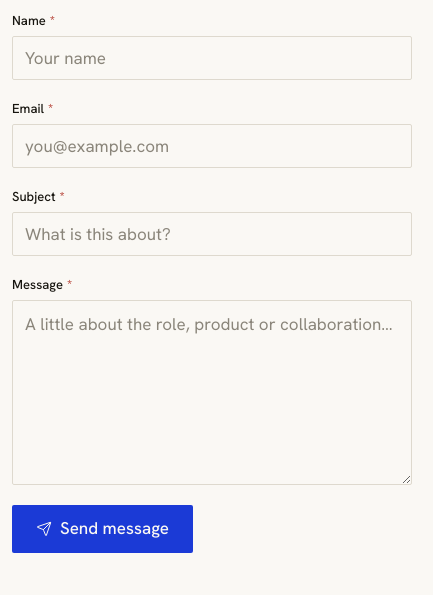
Test: ContactForm — validation (§06) › rejects a malformed email with the frozen format error
In the field labelled "Name*": (212, 58) [12,36,412,80], type "Ada"
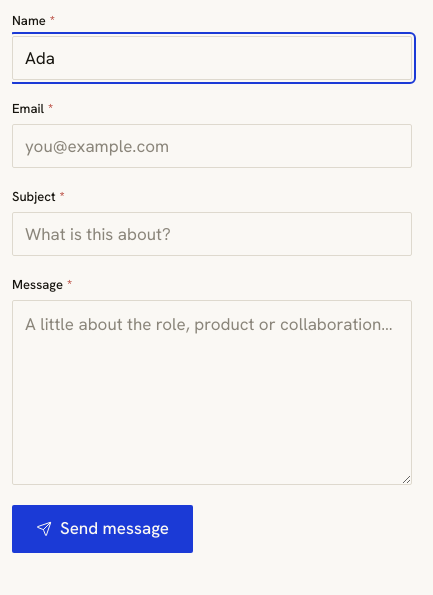
In the field labelled "Email*": (212, 146) [12,124,412,168], type "not-an-email"
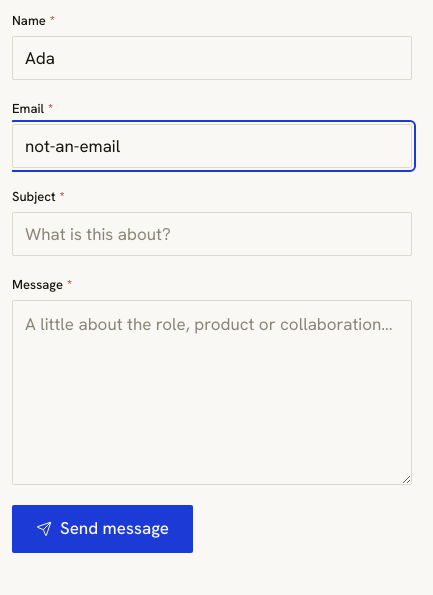
In the field labelled "Subject*": (212, 234) [12,212,412,256], type "Hi"
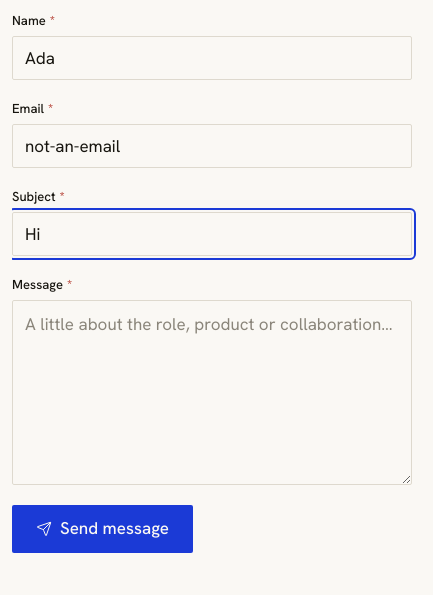
In the text box labelled "Message*": (212, 392) [12,300,412,485], type "A message"
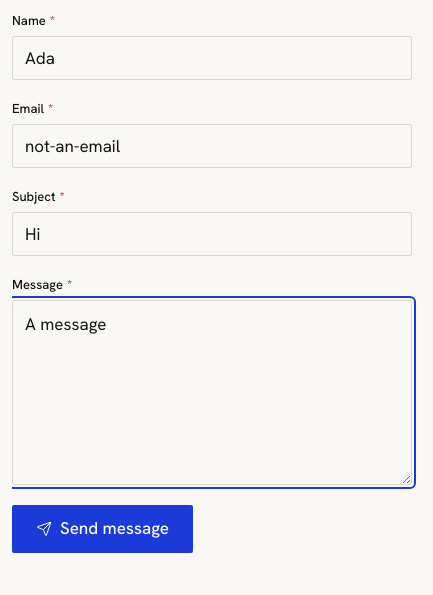
Click the button "Send message": (102, 529) [12,505,193,553]
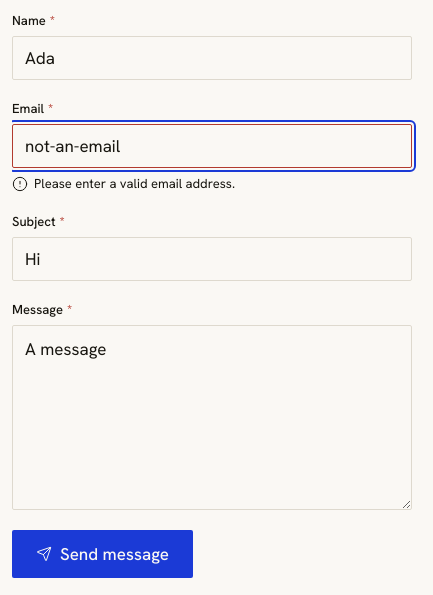
Expected: the text "Please enter a valid email address." is shown, [34,174,235,193]
